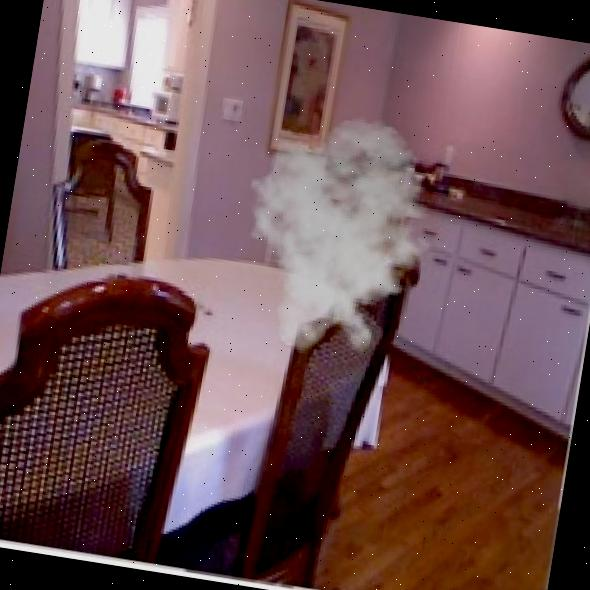smoke: (220, 100, 461, 372)
